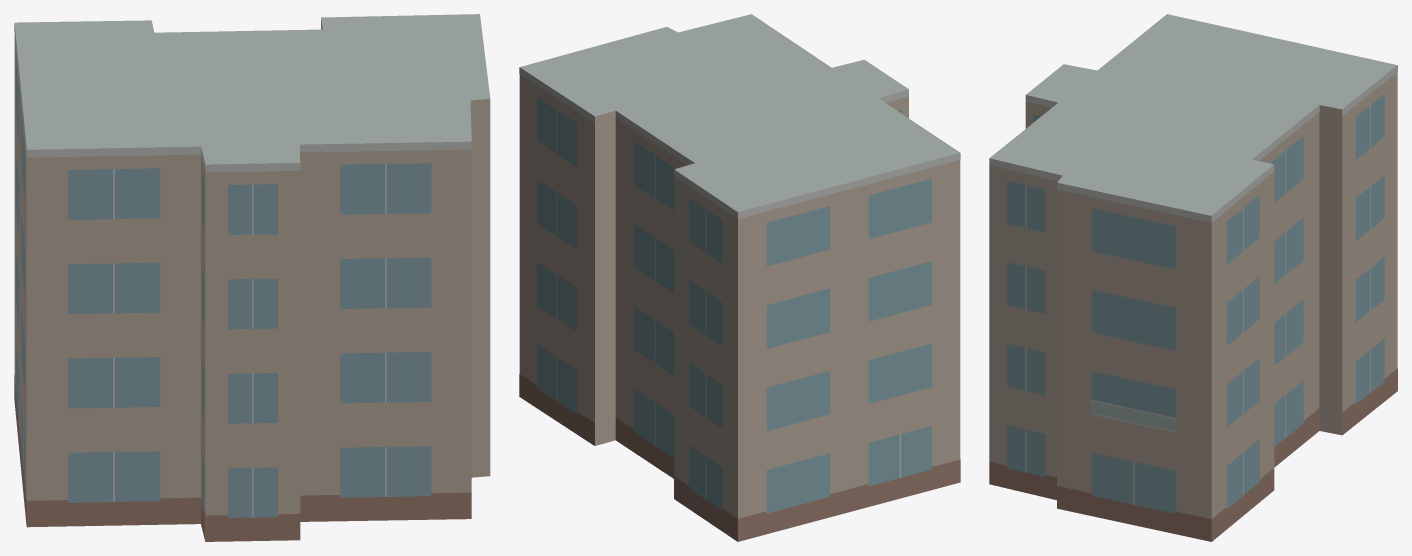
File: survey-upis-32912837.glb
The picture shows the model from 3 angles, left to right: view 1: azimuth 30°, elevation 25°; view 2: azimuth 150°, elevation 25°; view 3: azimuth 270°, elevation 25°; orthographic projection. The views are drawn at different scales.
Parts seen in each view (by area): view 1: survey-upis-32912837.tmp; view 2: survey-upis-32912837.tmp; view 3: survey-upis-32912837.tmp.
Boxes of the visible parts, x1,y1,x2,y2 form: survey-upis-32912837.tmp: [14, 14, 490, 541]; survey-upis-32912837.tmp: [519, 14, 960, 541]; survey-upis-32912837.tmp: [989, 14, 1397, 541].
Size of the model in its own units: 15.42 by 11.6 by 13.18.
